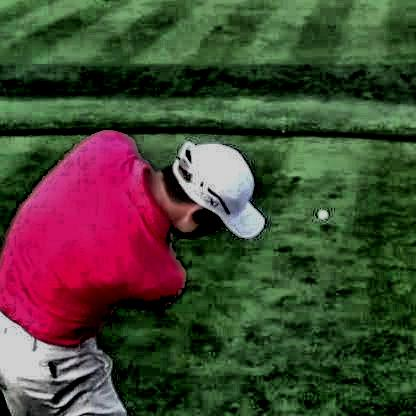golfball: (315, 207, 325, 219)
